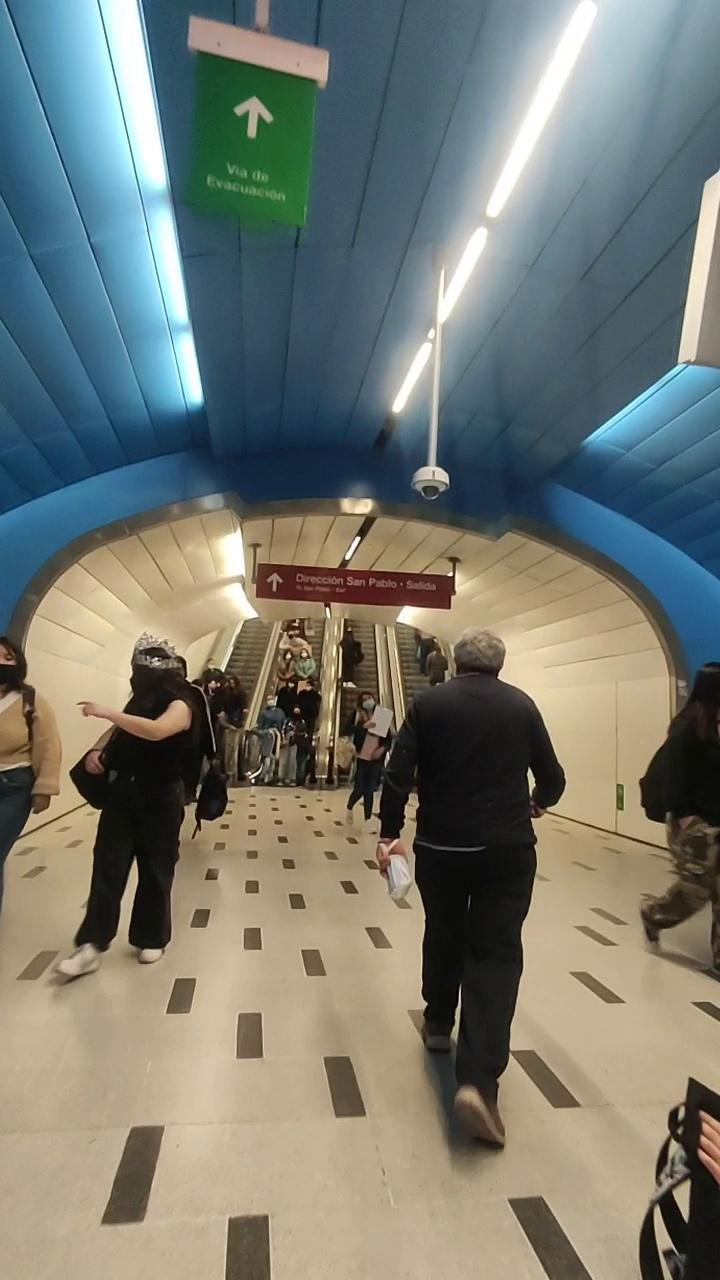emergency up arrow: (233, 92, 276, 146)
up arrow: (255, 560, 290, 597)
